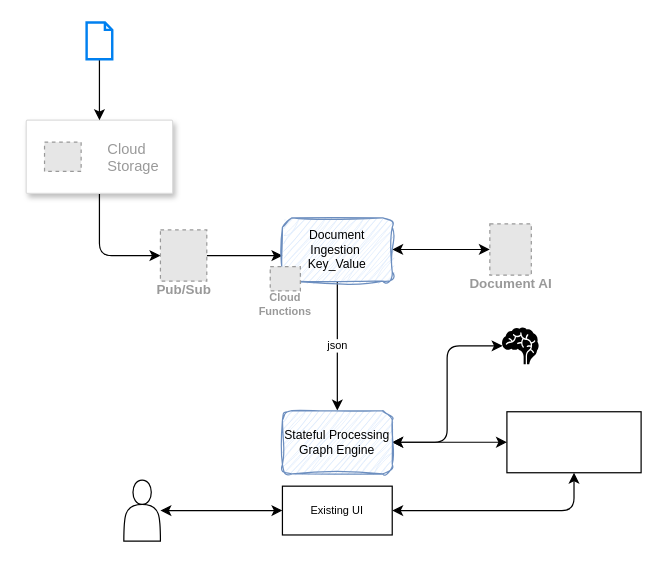
The diagram is 662 pixels wide and 562 high, and some of its shapes have lost their labels. Grey dashed boxes stand in for pictures. Here are the shapes that lost their labels. From the top down, the centre of each, then its label:
At point 99,40: "POs".
At point 519,345: "LLM".
At point 573,442: "Product Configuration".
